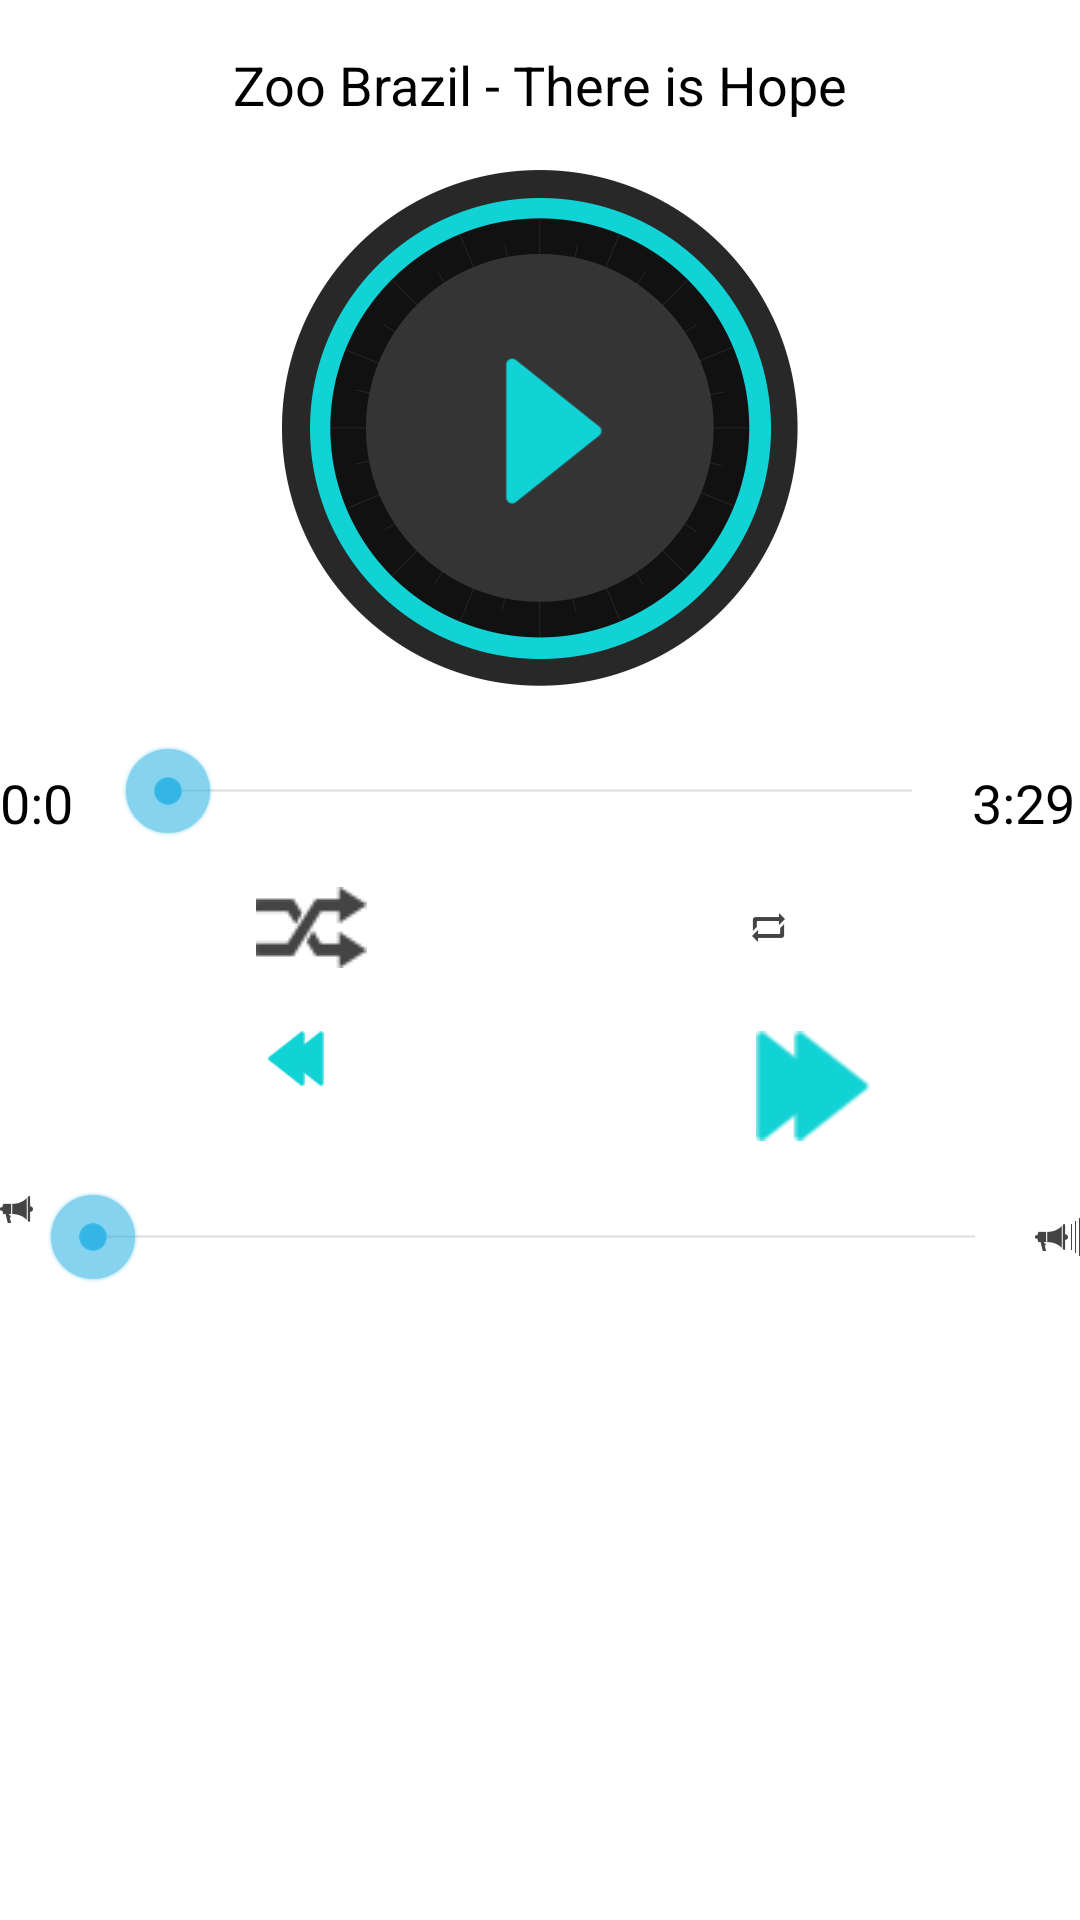

Screen size 1080x1920. Icon name, then its box in pixels as (x1, y1, x2, y2):
next audio: (756, 1031, 870, 1141)
previous audio: (267, 1031, 324, 1086)
volume high: (1035, 1218, 1080, 1256)
volume low: (0, 1196, 33, 1223)
